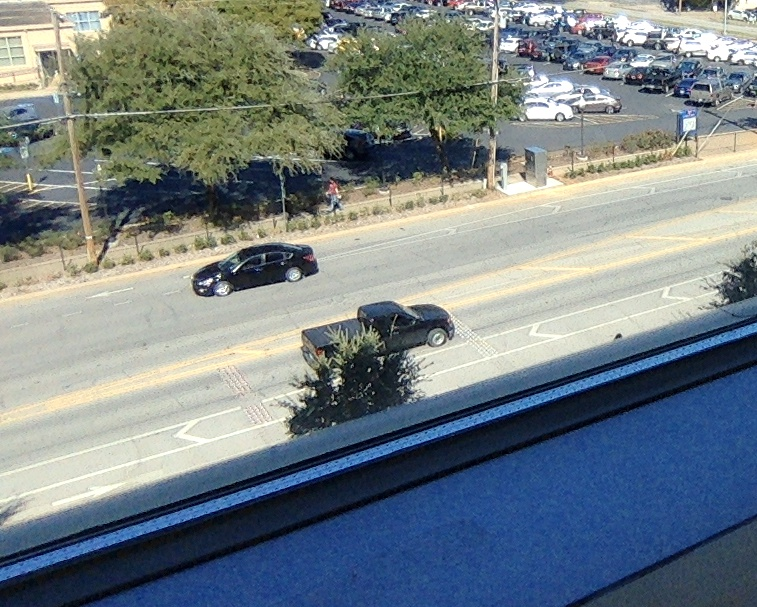car: (300, 300, 457, 370)
